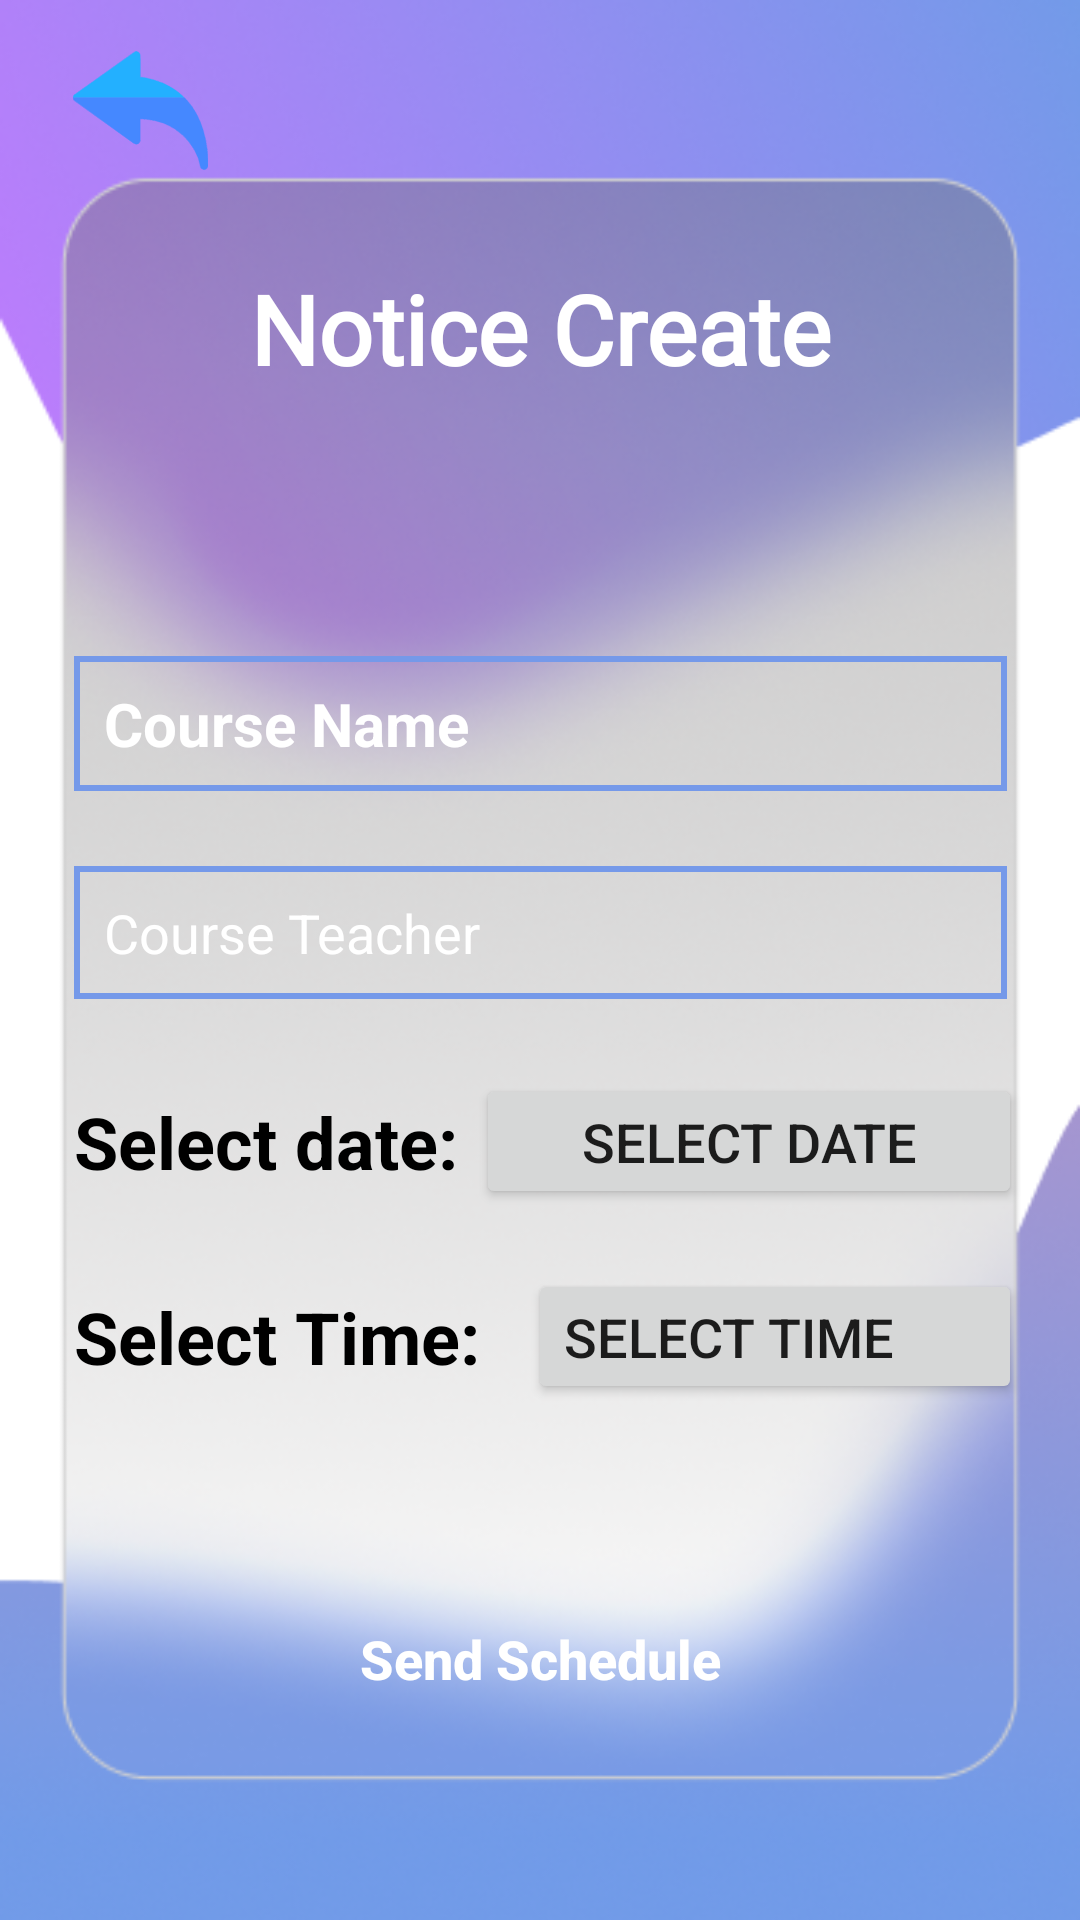

Named icons in this screenshot (1080*1920) and their centers, (x=x, y=y):
arrow back: (x=140, y=110)
